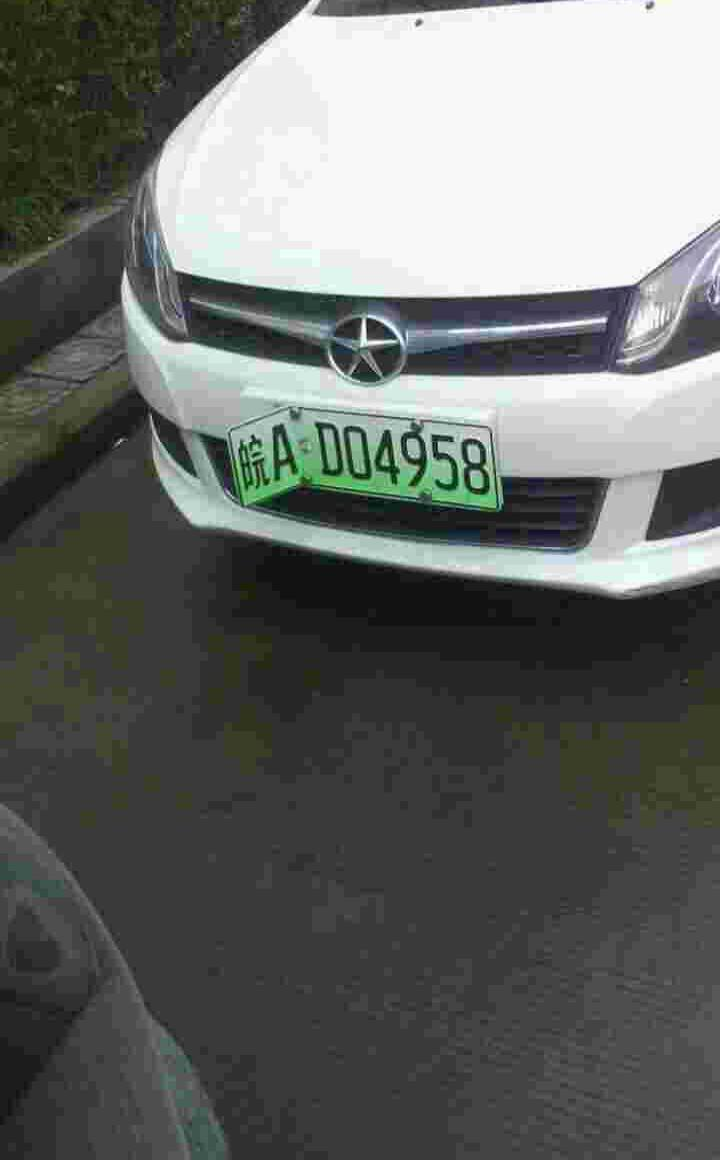car: (238, 405, 500, 518)
